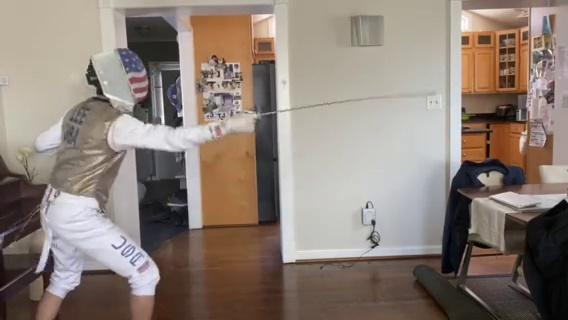blade-guard: (252, 103, 264, 121)
blade-tip: (386, 91, 437, 100)
fencing-blade: (240, 89, 438, 124)
